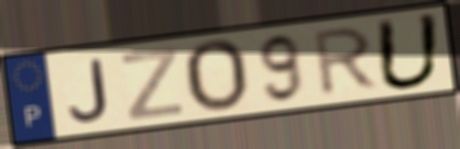9: (255, 30, 307, 104)
J: (65, 56, 113, 125)
O: (180, 37, 250, 116)
R: (311, 24, 382, 100)
U: (373, 11, 444, 93)
Z: (119, 45, 185, 123)
